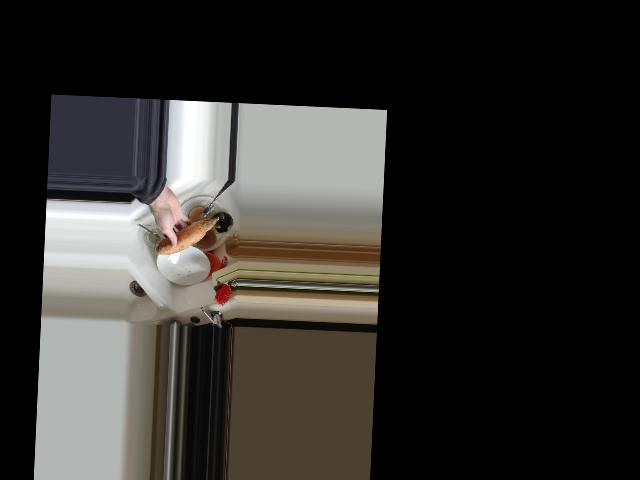sweet_potato: (155, 212, 217, 259)
